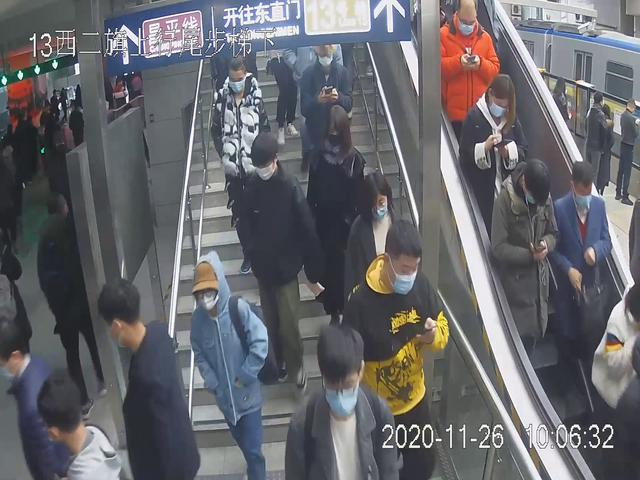person: (335, 216, 454, 480), (86, 274, 204, 480), (236, 130, 322, 395), (186, 248, 274, 480), (490, 155, 558, 395), (551, 160, 613, 413), (208, 51, 274, 274), (456, 71, 529, 266), (434, 1, 501, 169)
